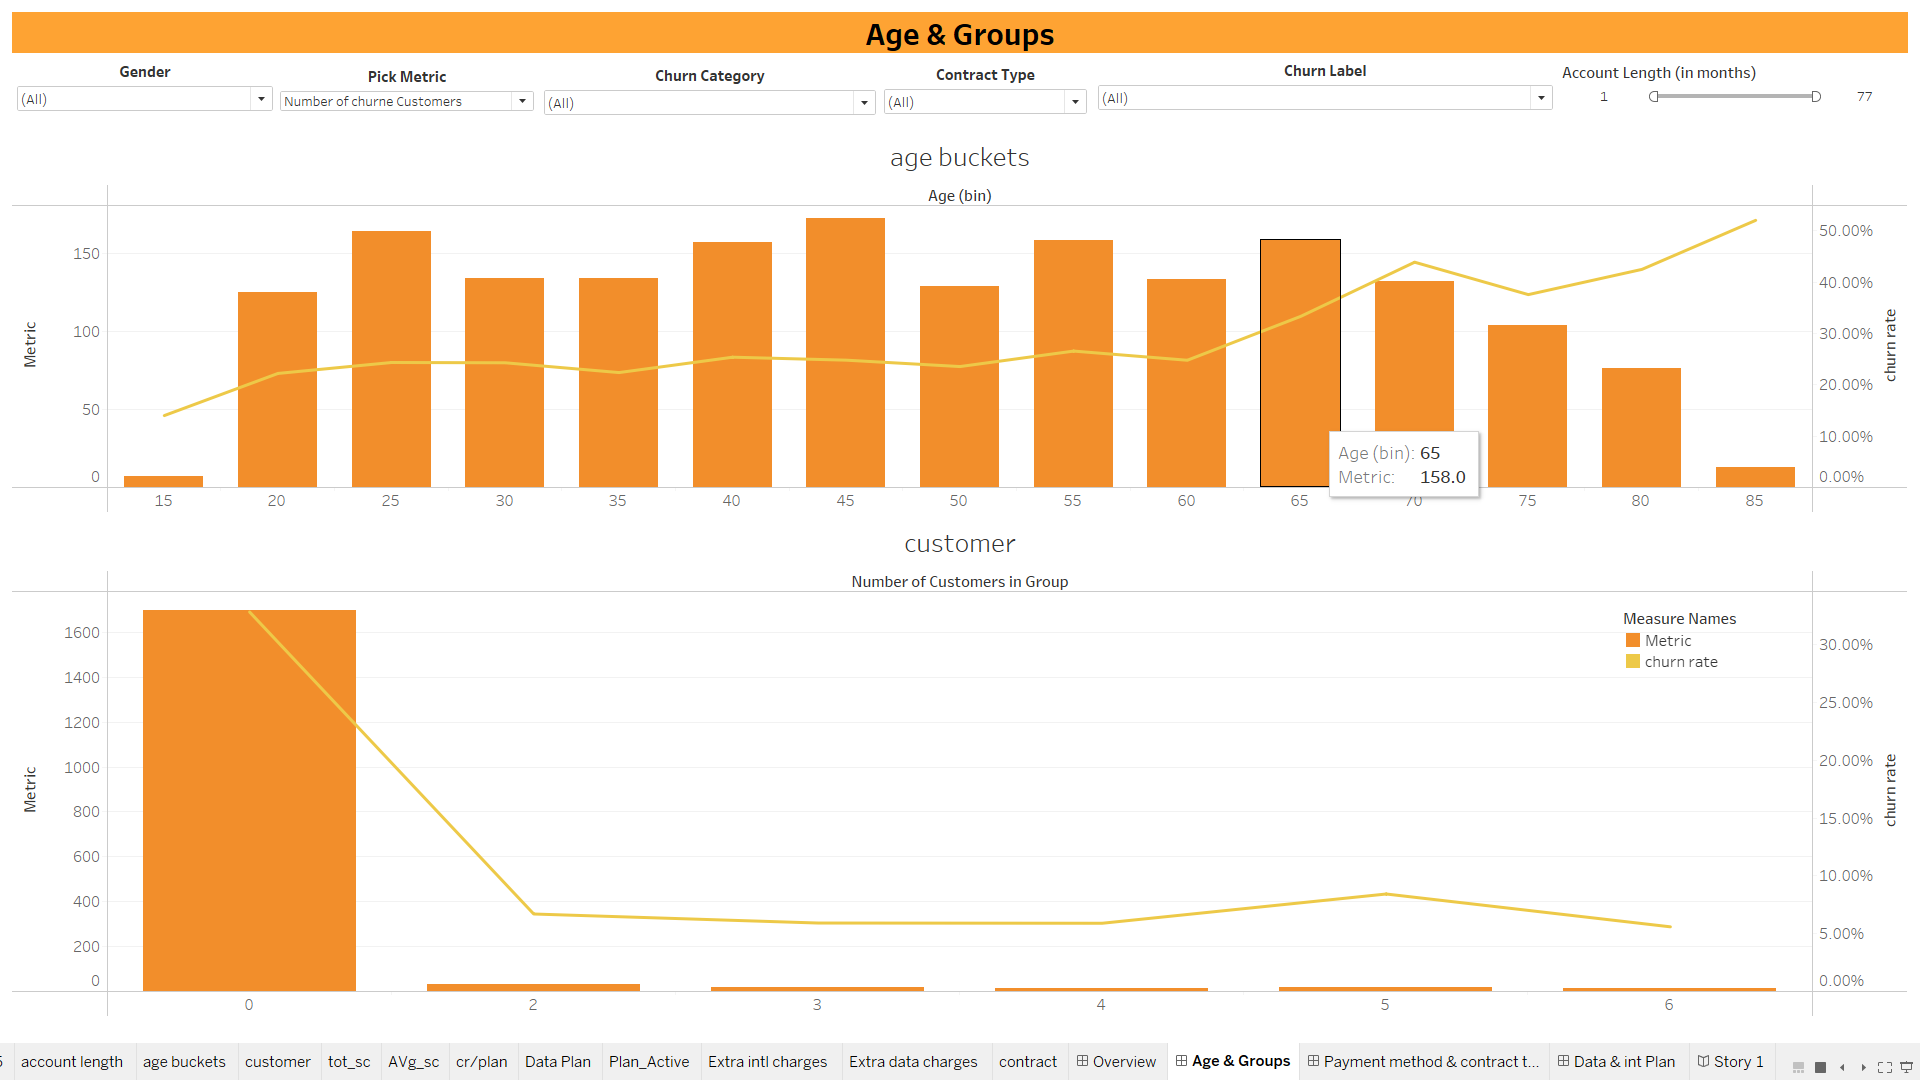

The dashboard page shown, as its layout file describes it:
{"tool":"tableau","page":{"name":"Age & Groups","canvas":[1000,1000],"units":"permille","ordinal":0},"visuals":[{"type":"title","box":[4.7,8.8,990.6,53.8]},{"type":"filter","title":"age buckets","param":"[federated.126dpc61ox4dfk1h3xwsc1kb167l].[none:Churn Label:nk]","box":[570.1,57.1,240.2,73.5]},{"type":"filter","title":"age buckets","param":"[federated.126dpc61ox4dfk1h3xwsc1kb167l].[none:Gender:nk]","box":[7.2,58.2,136.7,76.8]},{"type":"filter","title":"age buckets","param":"[federated.126dpc61ox4dfk1h3xwsc1kb167l].[none:Account Length (in months):qk]","box":[813.4,59.3,180,71.4]},{"type":"filter","title":"age buckets","param":"[federated.126dpc61ox4dfk1h3xwsc1kb167l].[none:Contract Type:nk]","box":[458.8,61.5,109,70.2]},{"type":"filter","title":"age buckets","param":"[federated.126dpc61ox4dfk1h3xwsc1kb167l].[none:Churn Category:nk]","box":[281.8,62.6,175.8,70.2]},{"type":"parameter","param":"[Parameters].[Parameter 1]","box":[144.5,63.7,135.5,70.2]},{"type":"worksheet","title":"age buckets","mark":"Bar","rows":["Calculation_634444605056151552","Calculation_1270015102433320965"],"cols":["Age (bin)"],"box":[4.7,132.7,990.6,366.6]},{"type":"worksheet","title":"customer","mark":"Bar","rows":["Calculation_634444605056151552","Calculation_1270015102433320965"],"cols":["Number of Customers in Group"],"box":[4.7,499.3,990.6,491.9]},{"type":"legend","title":"age buckets","param":"[federated.126dpc61ox4dfk1h3xwsc1kb167l].[:Measure Names]","box":[845.3,582.9,84.3,70.2]}]}

Visuals, with their boxes on the dashboard's canvas, which has no fixed pixel size, in thousandths of its width and height (x1, y1, x2, y2). These are canvas units, not pixel positions in the 1920x1080 screenshot, which may show the page scaled, cropped or inside an application window:
title: bbox=(5, 9, 995, 63)
"age buckets" filter: bbox=(570, 57, 810, 131)
"age buckets" filter: bbox=(7, 58, 144, 135)
"age buckets" filter: bbox=(813, 59, 993, 131)
"age buckets" filter: bbox=(459, 62, 568, 132)
"age buckets" filter: bbox=(282, 63, 458, 133)
parameter: bbox=(144, 64, 280, 134)
"age buckets" worksheet (Bar marks): bbox=(5, 133, 995, 499)
"customer" worksheet (Bar marks): bbox=(5, 499, 995, 991)
"age buckets" legend: bbox=(845, 583, 930, 653)
